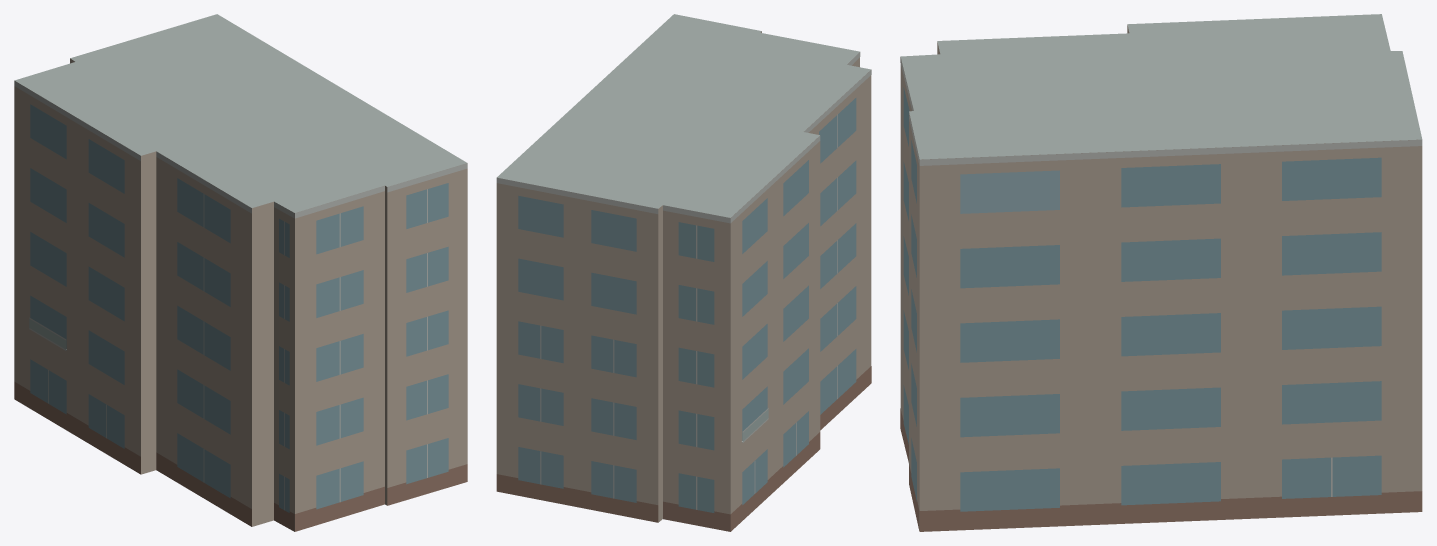
File: survey-upis-32715520.glb
3 renders of one model, left to right at view 1: azimuth 30°, elevation 25°; view 2: azimuth 150°, elevation 25°; view 3: azimuth 270°, elevation 25°, orthographic. The views are drawn at different scales.
Parts seen in each view (by area): view 1: survey-upis-32715520.tmp; view 2: survey-upis-32715520.tmp; view 3: survey-upis-32715520.tmp.
Boxes of the visible parts, x1,y1,x2,y2 form: survey-upis-32715520.tmp: (14, 14, 467, 531); survey-upis-32715520.tmp: (496, 14, 871, 531); survey-upis-32715520.tmp: (900, 14, 1422, 531).
Size of the model in its own units: 11.83 by 14.1 by 17.92.
